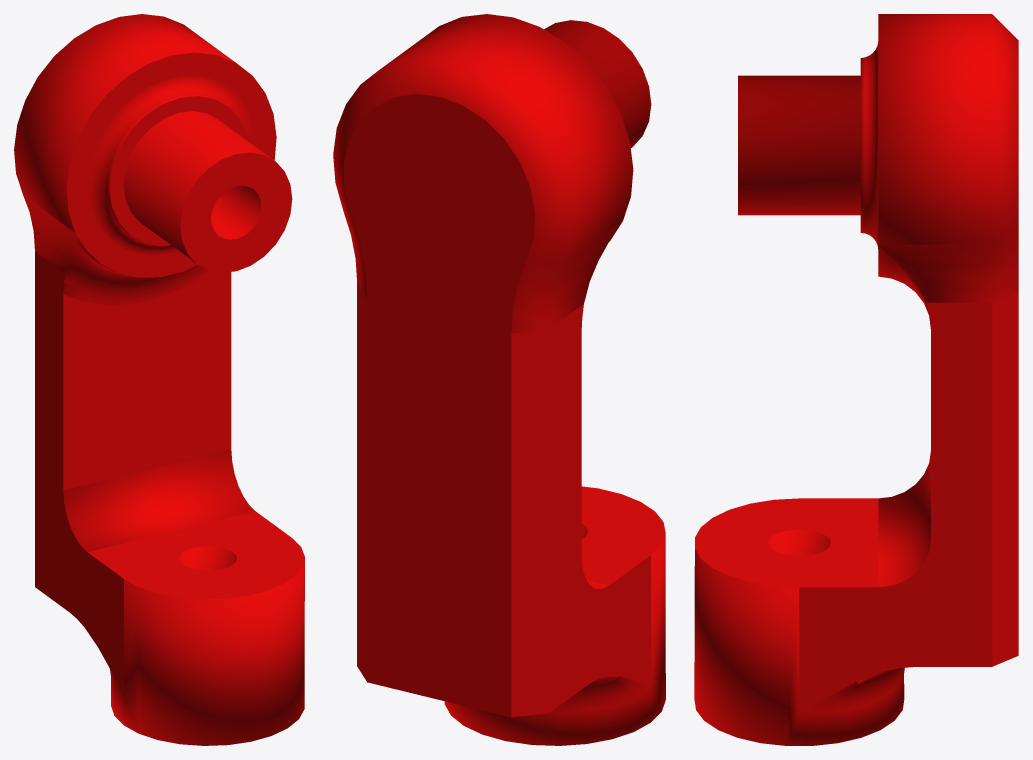
Rendered from front_wheel_arm.dae.
3 views of the same model, side by side, from view 1: azimuth 30°, elevation 25°; view 2: azimuth 150°, elevation 25°; view 3: azimuth 270°, elevation 25° (orthographic). The views are drawn at different scales.
Parts seen in each view (by area): view 1: front wheel arm v2; view 2: front wheel arm v2; view 3: front wheel arm v2.
Boxes of the visible parts, x1,y1,x2,y2 form: front wheel arm v2: (14,14,304,745); front wheel arm v2: (333,14,665,745); front wheel arm v2: (694,14,1018,745).
Size of the model in its own units: 0.015 by 0.0185 by 0.0425.
